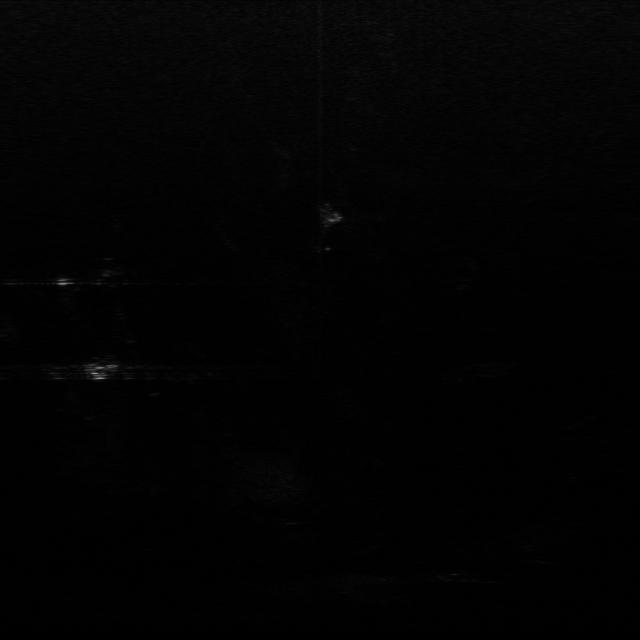rov: (86, 361, 123, 384)
